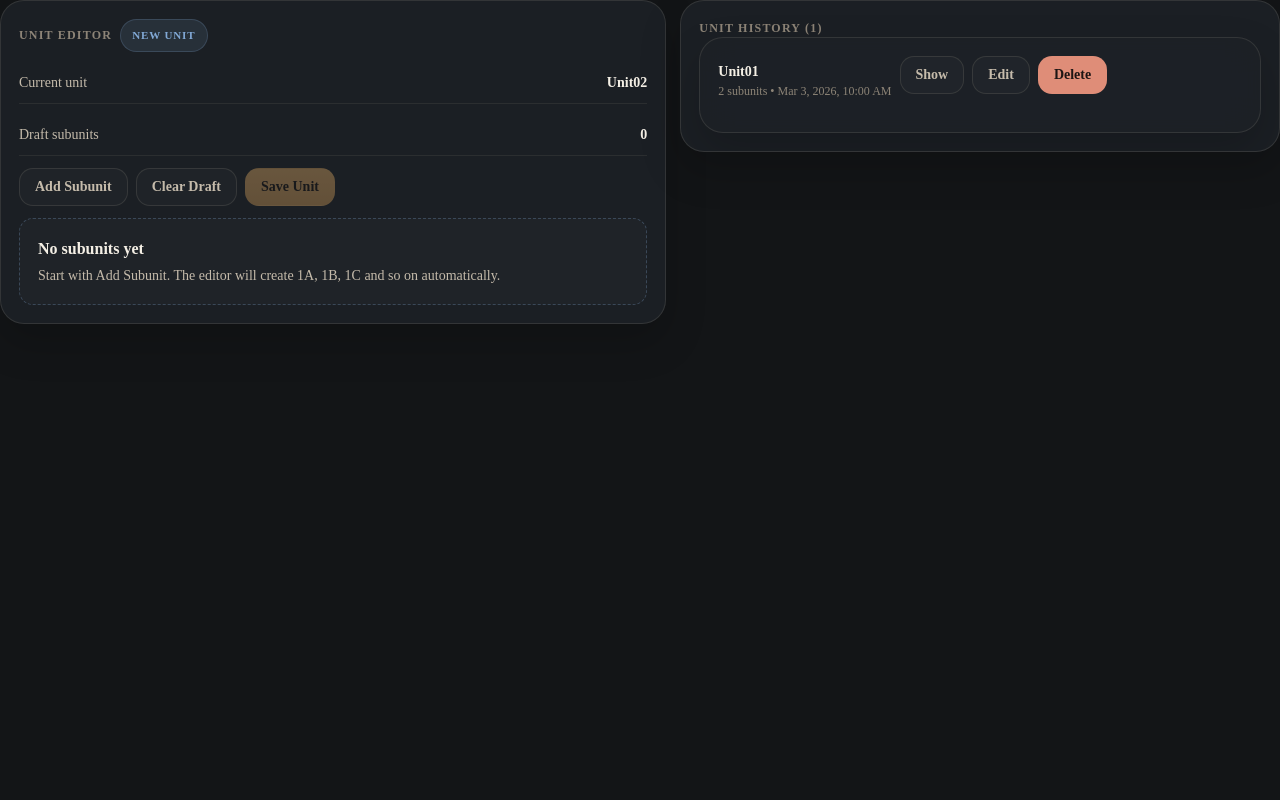
Test case: creates a unit from subunits and resets draft to next unit
This screenshot has width=1280, height=800.
Expected: the text "Unit02" is shown, x1=607 y1=72 x2=647 y2=92
Click the button "Add Subunit": x=73, y=186 x1=19 y1=168 x2=128 y2=206
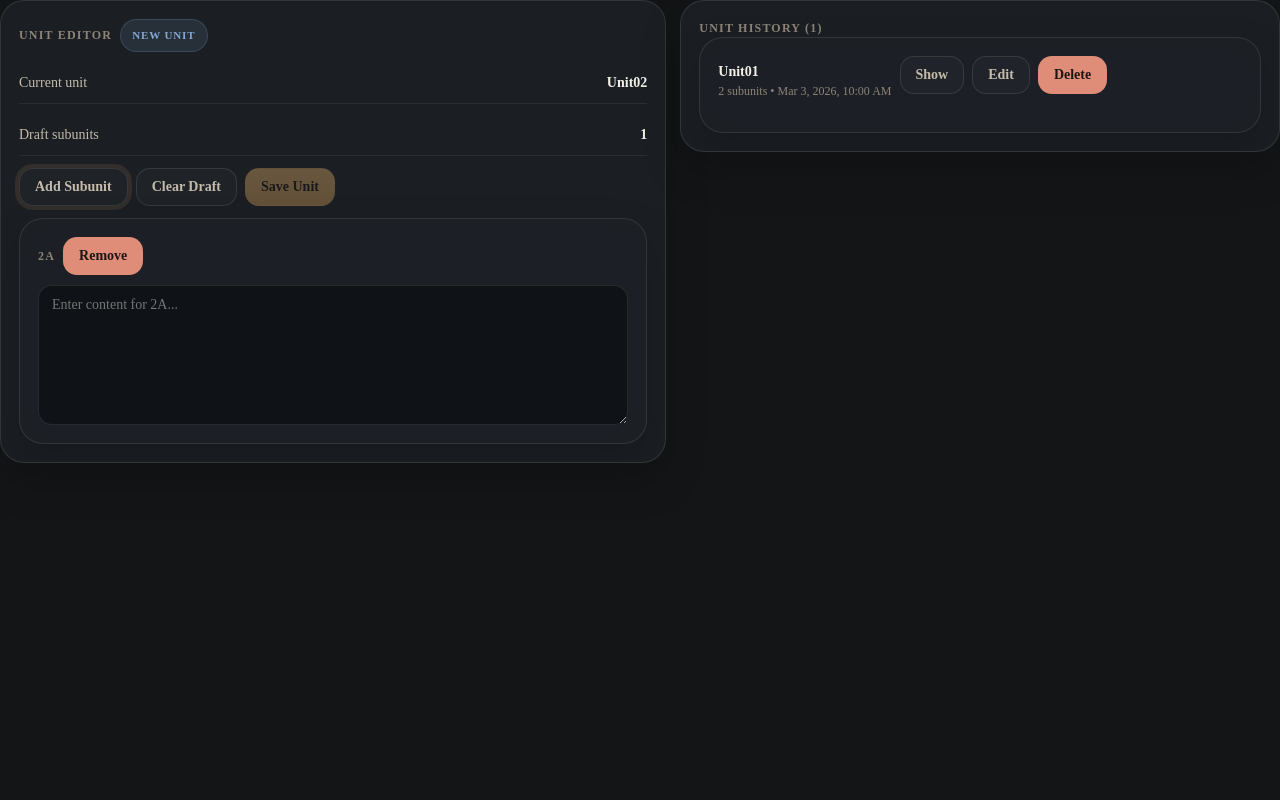
In the text box with placeholder "Enter content for 2A...": x=333, y=354 x1=38 y1=284 x2=628 y2=424, type "First subunit"
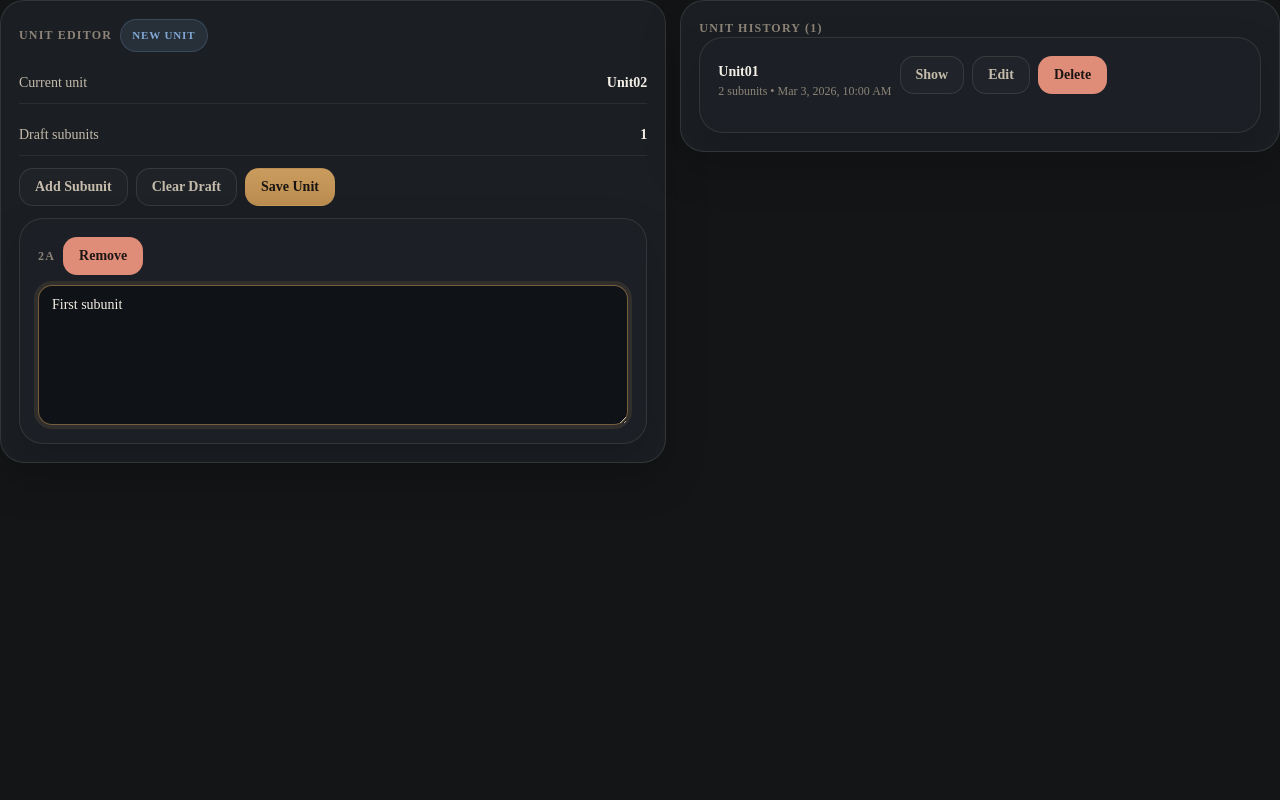
Click the button "Add Subunit": x=73, y=186 x1=19 y1=168 x2=128 y2=206
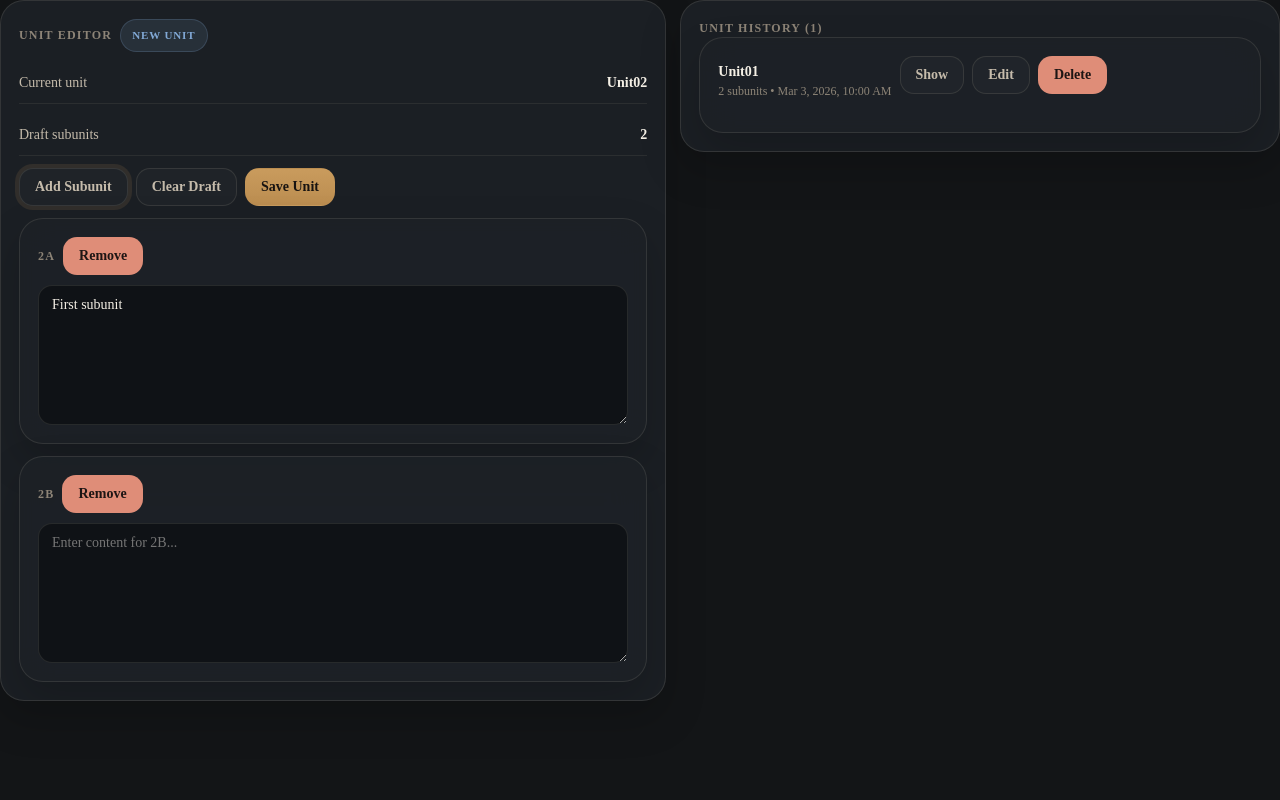
In the text box with placeholder "Enter content for 2B...": x=333, y=592 x1=38 y1=522 x2=628 y2=662, type "Second subunit"
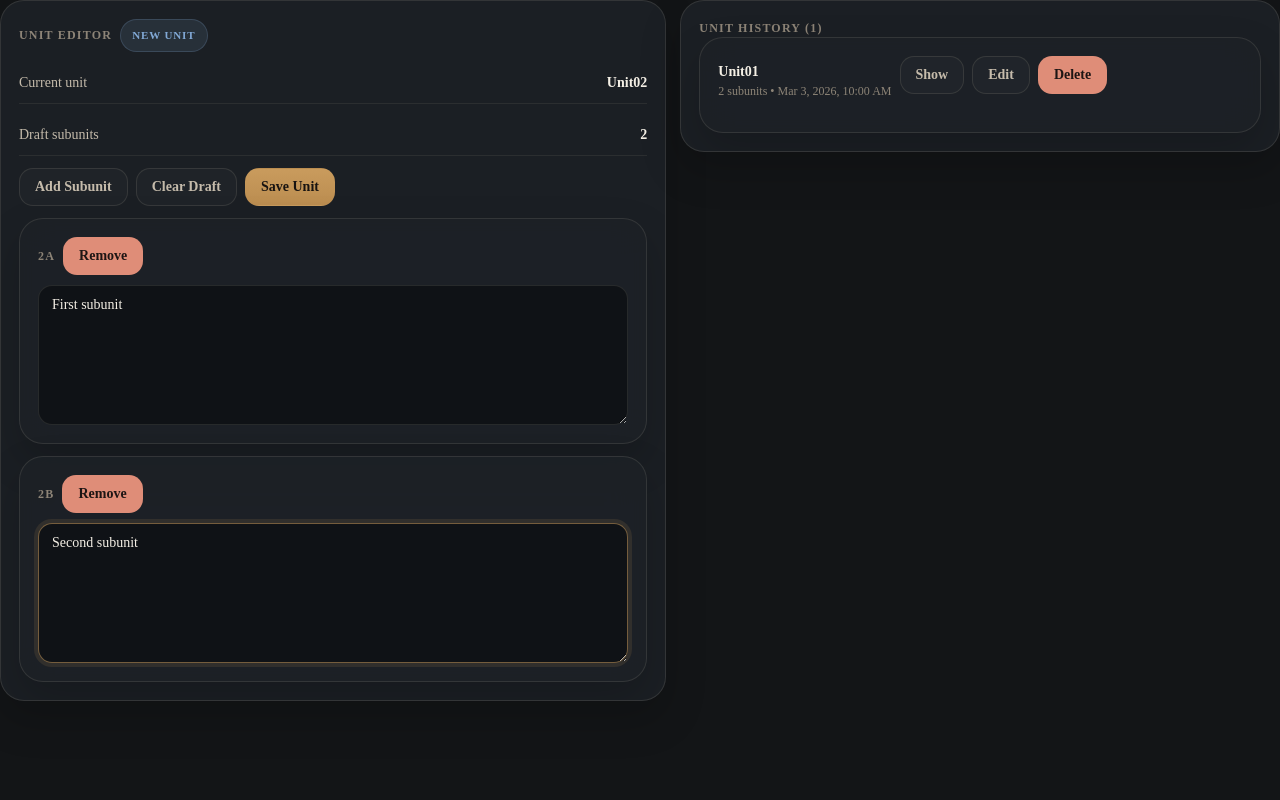
Click the button "Save Unit": x=290, y=186 x1=245 y1=168 x2=335 y2=206
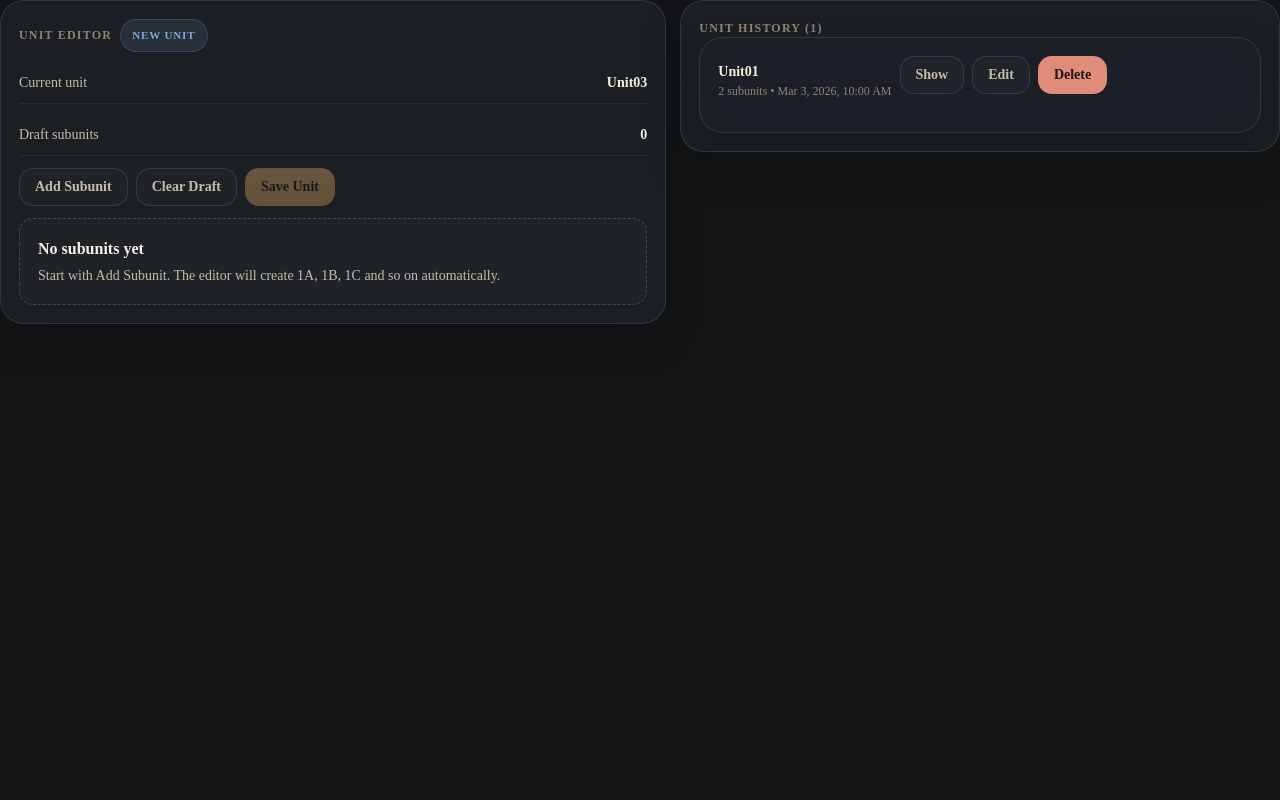
Expected: the text "Current unit" is shown, x1=19 y1=72 x2=87 y2=92
Result: the text "Unit03" is shown at x1=607 y1=72 x2=647 y2=92
